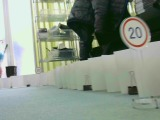speed_20: (117, 15, 152, 50)
